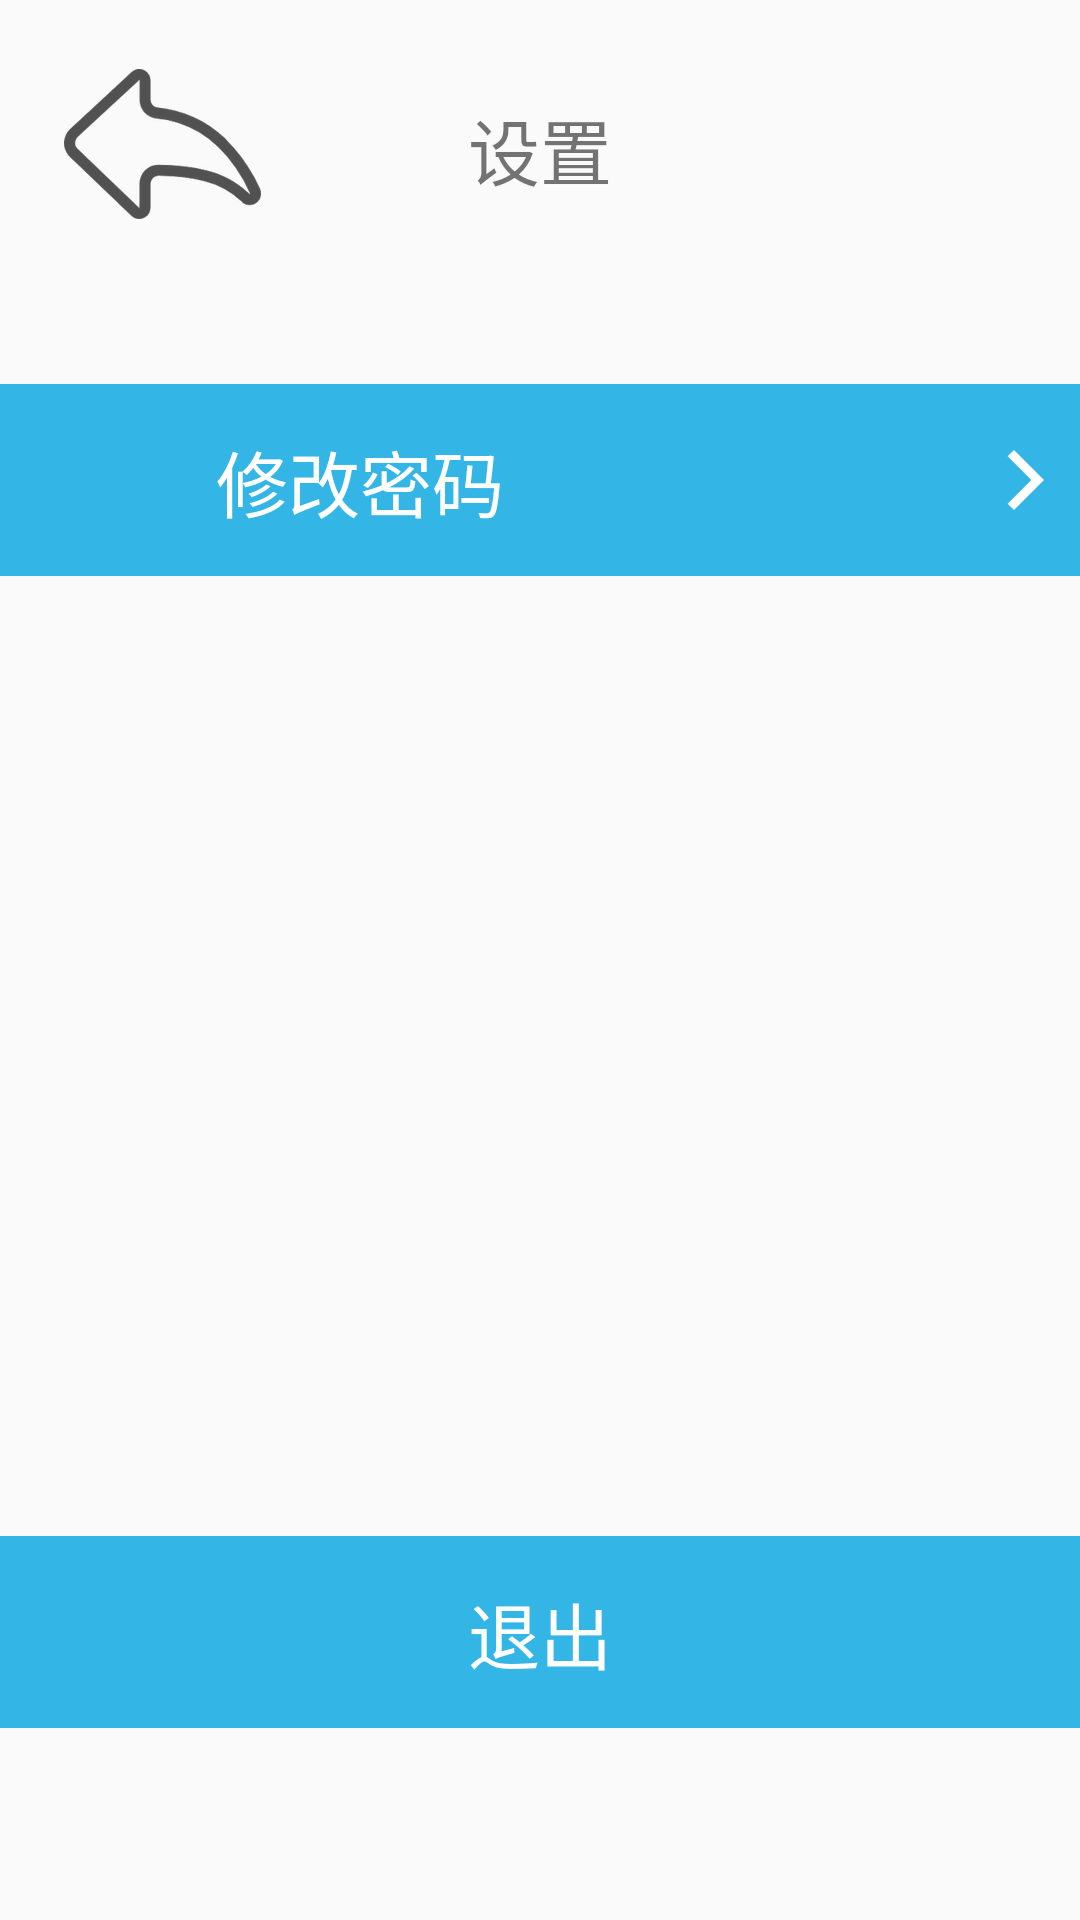

Screen size 1080px×1920px. Icon name, then its box in pixels as bbox=[x1, y1, x2, y2]:
arrow forward: bbox=[1008, 450, 1044, 510]
fanhui: bbox=[64, 69, 261, 219]
